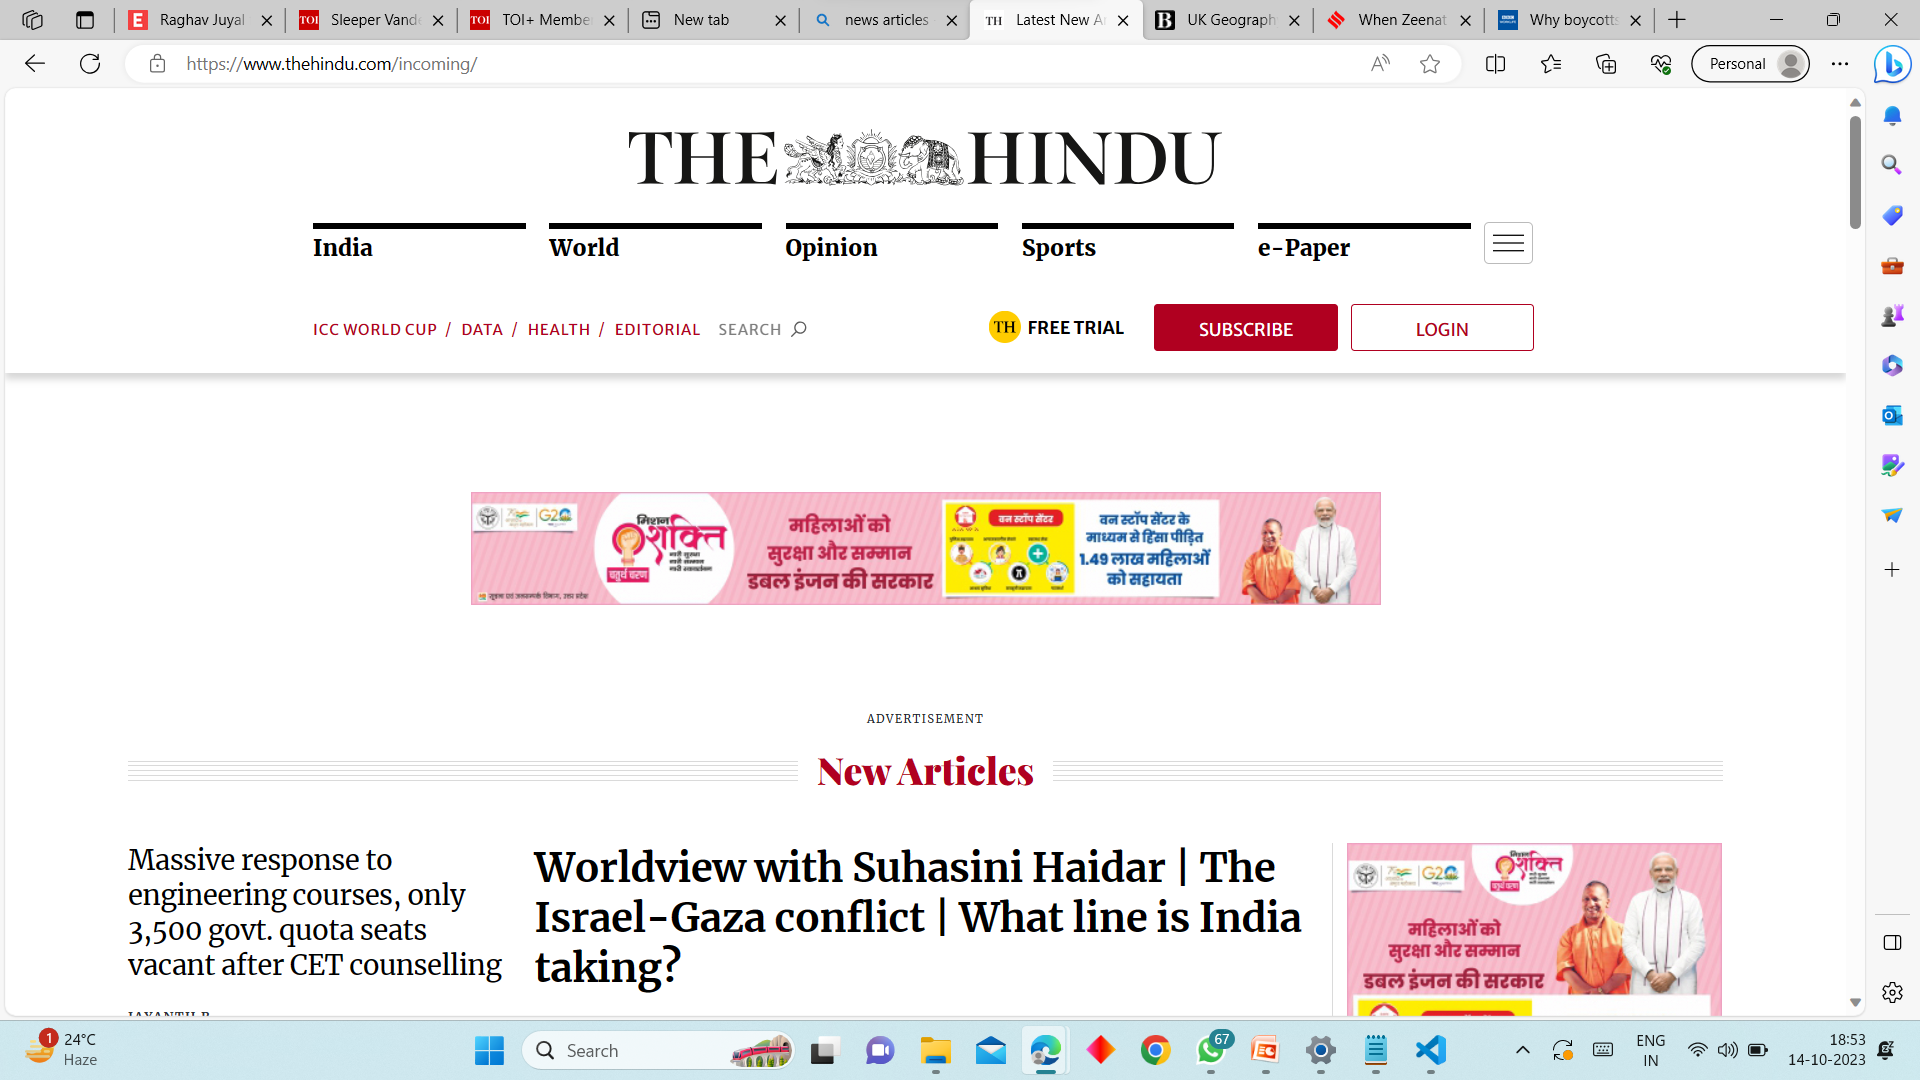Image: (465, 489, 1375, 601), (1340, 836, 1722, 1015), (1482, 225, 1527, 257)
Paragraph: (534, 841, 1286, 990), (617, 92, 1273, 222), (96, 829, 504, 993), (803, 746, 1026, 803), (1151, 295, 1337, 360), (1350, 311, 1532, 357), (302, 293, 443, 347), (848, 691, 1013, 733), (787, 231, 907, 268), (716, 306, 812, 349), (533, 225, 620, 268), (1241, 237, 1357, 261), (454, 311, 508, 353), (521, 319, 599, 347), (1010, 235, 1116, 255), (611, 315, 682, 340), (311, 235, 392, 248)
